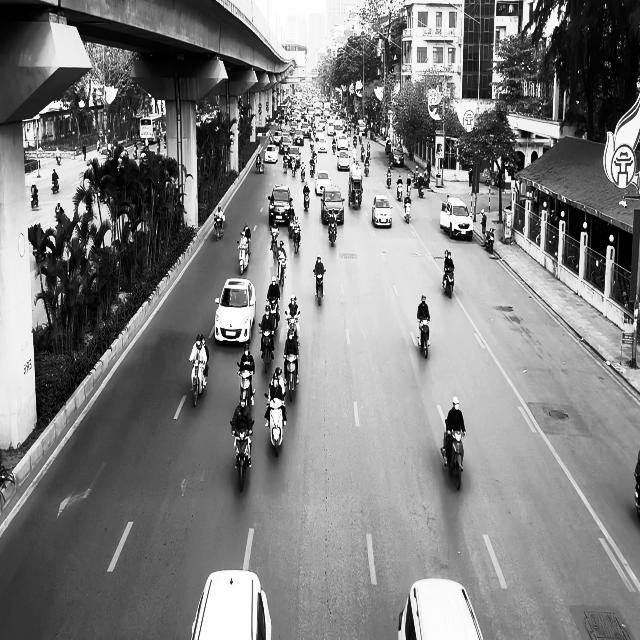bus: (138, 113, 162, 144)
car: (191, 569, 272, 639), (398, 578, 484, 639), (215, 278, 256, 344), (441, 196, 474, 240), (268, 184, 293, 225), (320, 186, 345, 224), (372, 195, 392, 228), (315, 169, 332, 195), (286, 146, 301, 168), (389, 148, 404, 167), (264, 145, 278, 163), (338, 150, 350, 171)
motorbike: (441, 422, 467, 490), (230, 418, 254, 491), (265, 392, 287, 457), (237, 362, 255, 409), (259, 324, 276, 373), (190, 358, 207, 407), (284, 353, 299, 402), (285, 310, 300, 343), (418, 317, 430, 358), (314, 268, 326, 306), (238, 239, 250, 275), (268, 296, 280, 329), (327, 211, 338, 246), (442, 267, 454, 298), (277, 255, 287, 287), (214, 213, 225, 241), (270, 230, 279, 259), (403, 195, 412, 223), (292, 225, 301, 253), (485, 228, 495, 253), (31, 188, 39, 208), (303, 190, 310, 211), (51, 176, 59, 194), (386, 168, 392, 188), (397, 182, 403, 202)
